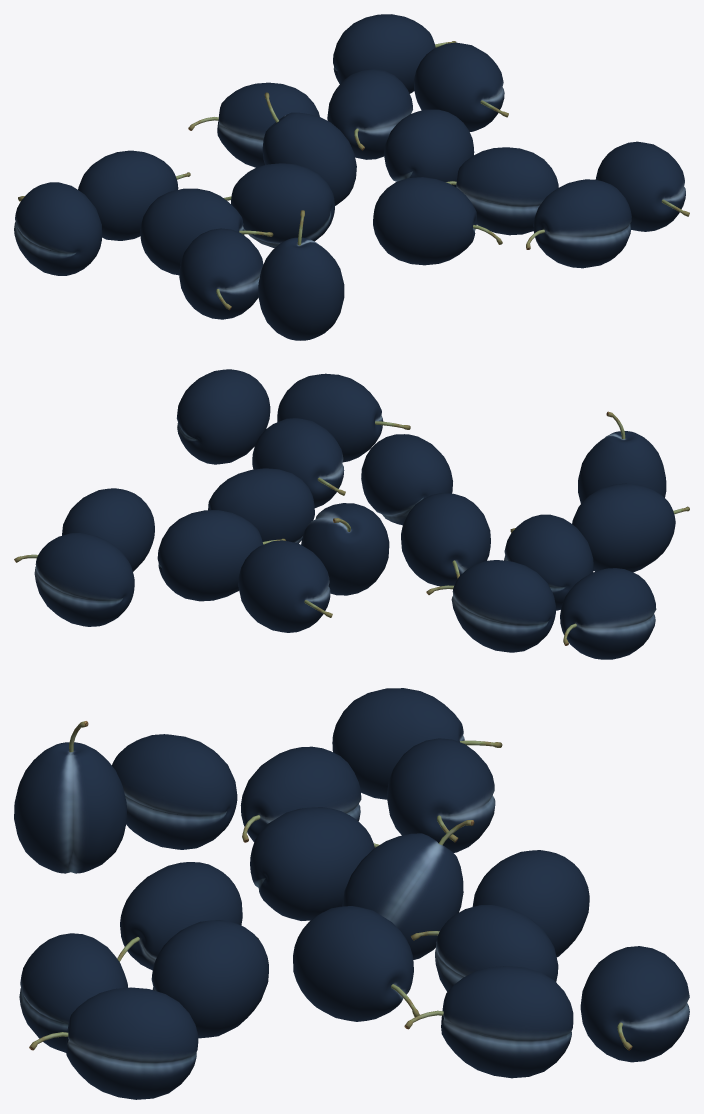
The picture shows the model from 3 angles, top to bottom: view 1: azimuth 30°, elevation 25°; view 2: azimuth 150°, elevation 25°; view 3: azimuth 270°, elevation 25°; orthographic projection. The views are drawn at different scales.
Parts seen in each view (by area): view 1: Model_120_Plum_32, Model_120_Plum_01, Model_120_Plum_30, Model_120_Plum_04, Model_120_Plum_09, Model_120_Plum_31, Model_120_Plum_02, Model_120_Plum_22, Model_120_Plum_10, Model_120_Plum_29, Model_120_Plum_16, Model_120_Plum_07 (+4 smaller); view 2: Model_120_Plum_10, Model_120_Plum_21, Model_120_Plum_19, Model_120_Plum_29, Model_120_Plum_09, Model_120_Plum_02, Model_120_Plum_14, Model_120_Plum_04, Model_120_Plum_32, Model_120_Plum_34, Model_120_Plum_30, Model_120_Plum_16 (+4 smaller); view 3: Model_120_Plum_22, Model_120_Plum_29, Model_120_Plum_01, Model_120_Plum_02, Model_120_Plum_16, Model_120_Plum_04, Model_120_Plum_21, Model_120_Plum_31, Model_120_Plum_34, Model_120_Plum_10, Model_120_Plum_09, Model_120_Plum_32 (+4 smaller).
Part boxes in pixels (left/top/right/bottom): Model_120_Plum_32: left=373, top=177, right=476, bottom=265; Model_120_Plum_01: left=258, top=237, right=344, bottom=340; Model_120_Plum_30: left=533, top=179, right=631, bottom=268; Model_120_Plum_04: left=231, top=163, right=334, bottom=247; Model_120_Plum_09: left=14, top=182, right=102, bottom=275; Model_120_Plum_31: left=456, top=147, right=558, bottom=235; Model_120_Plum_02: left=179, top=228, right=263, bottom=319; Model_120_Plum_22: left=414, top=42, right=504, bottom=131; Model_120_Plum_10: left=78, top=150, right=178, bottom=240; Model_120_Plum_29: left=595, top=141, right=685, bottom=231; Model_120_Plum_16: left=384, top=109, right=474, bottom=186; Model_120_Plum_07: left=140, top=188, right=244, bottom=275; Model_120_Plum_10: left=451, top=560, right=555, bottom=652; Model_120_Plum_21: left=34, top=533, right=134, bottom=626; Model_120_Plum_19: left=157, top=510, right=263, bottom=601; Model_120_Plum_29: left=176, top=369, right=270, bottom=464; Model_120_Plum_09: left=560, top=568, right=656, bottom=659; Model_120_Plum_02: left=572, top=483, right=675, bottom=572; Model_120_Plum_14: left=238, top=540, right=330, bottom=632; Model_120_Plum_04: left=401, top=493, right=490, bottom=586; Model_120_Plum_32: left=361, top=434, right=452, bottom=525; Model_120_Plum_34: left=301, top=503, right=389, bottom=595; Model_120_Plum_30: left=277, top=373, right=383, bottom=462; Model_120_Plum_16: left=208, top=468, right=314, bottom=543; Model_120_Plum_22: left=441, top=966, right=573, bottom=1078; Model_120_Plum_29: left=66, top=987, right=198, bottom=1099; Model_120_Plum_01: left=14, top=742, right=127, bottom=873; Model_120_Plum_02: left=112, top=734, right=237, bottom=849; Model_120_Plum_16: left=293, top=906, right=413, bottom=1021; Model_120_Plum_04: left=250, top=807, right=374, bottom=920; Model_120_Plum_21: left=580, top=946, right=689, bottom=1062; Model_120_Plum_31: left=151, top=920, right=268, bottom=1038; Model_120_Plum_34: left=342, top=833, right=463, bottom=959; Model_120_Plum_10: left=387, top=738, right=495, bottom=852; Model_120_Plum_09: left=332, top=688, right=464, bottom=799; Model_120_Plum_32: left=120, top=862, right=242, bottom=970.
Size of the model in its own units: 100 by 20.6 by 82.77.
